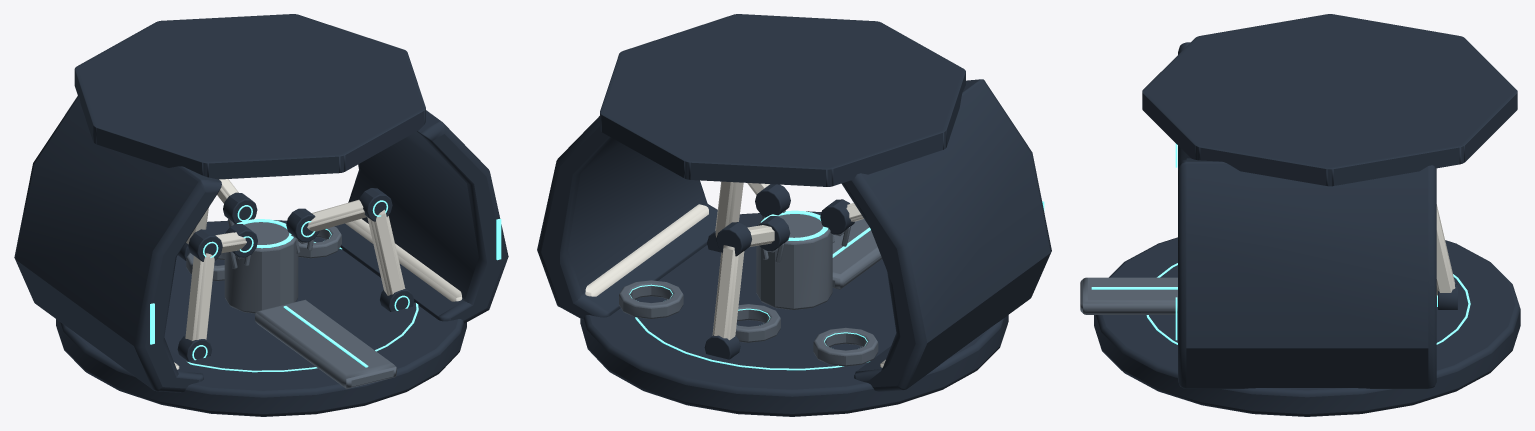
File: cordis_workshop.glb
3 views of the same model, side by side, from view 1: azimuth 30°, elevation 25°; view 2: azimuth 150°, elevation 25°; view 3: azimuth 270°, elevation 25° (orthographic). The views are drawn at different scales.
Parts seen in each view (by area): view 1: cordis_workshop__canopy, cordis_workshop__shell_left, cordis_workshop__floor, cordis_workshop__shell_right, cordis_workshop__rail, cordis_workshop__manufacturing_core, cordis_workshop__arm_02_base, cordis_workshop__arm_01_base, cordis_workshop__shell_ivory__02, cordis_workshop__arm_01_joint, cordis_workshop__dock_03_frame, cordis_workshop__arm_02_bearing__02 (+7 smaller); view 2: cordis_workshop__canopy, cordis_workshop__shell_left, cordis_workshop__floor, cordis_workshop__shell_right, cordis_workshop__manufacturing_core, cordis_workshop__shell_ivory__02, cordis_workshop__rail, cordis_workshop__arm_03_base, cordis_workshop__dock_01_frame, cordis_workshop__dock_03_frame, cordis_workshop__dock_02_frame, cordis_workshop__arm_01_base (+6 smaller); view 3: cordis_workshop__shell_right, cordis_workshop__canopy, cordis_workshop__floor, cordis_workshop__rail, cordis_workshop__arm_03_base, cordis_workshop__deck_inlay.
Boxes of the visible parts, bbox=[...] form: cordis_workshop__canopy: bbox=[74, 14, 425, 179]; cordis_workshop__shell_left: bbox=[14, 94, 221, 392]; cordis_workshop__floor: bbox=[56, 220, 466, 416]; cordis_workshop__shell_right: bbox=[334, 110, 508, 323]; cordis_workshop__rail: bbox=[255, 299, 396, 388]; cordis_workshop__manufacturing_core: bbox=[224, 222, 298, 313]; cordis_workshop__arm_02_base: bbox=[185, 253, 214, 340]; cordis_workshop__arm_01_base: bbox=[367, 209, 405, 295]; cordis_workshop__shell_ivory__02: bbox=[345, 218, 462, 301]; cordis_workshop__arm_01_joint: bbox=[307, 199, 366, 231]; cordis_workshop__dock_03_frame: bbox=[298, 226, 341, 258]; cordis_workshop__arm_02_bearing__02: bbox=[188, 229, 222, 261]; cordis_workshop__canopy: bbox=[600, 14, 965, 186]; cordis_workshop__shell_left: bbox=[841, 79, 1051, 391]; cordis_workshop__floor: bbox=[580, 211, 1008, 416]; cordis_workshop__shell_right: bbox=[537, 116, 717, 319]; cordis_workshop__manufacturing_core: bbox=[756, 214, 832, 309]; cordis_workshop__shell_ivory__02: bbox=[585, 204, 708, 296]; cordis_workshop__rail: bbox=[832, 219, 882, 289]; cordis_workshop__arm_03_base: bbox=[712, 245, 744, 340]; cordis_workshop__dock_01_frame: bbox=[813, 327, 878, 366]; cordis_workshop__dock_03_frame: bbox=[619, 280, 683, 318]; cordis_workshop__dock_02_frame: bbox=[735, 304, 780, 342]; cordis_workshop__arm_01_base: bbox=[715, 181, 743, 237]; cordis_workshop__shell_right: bbox=[1178, 158, 1436, 388]; cordis_workshop__canopy: bbox=[1142, 14, 1517, 186]; cordis_workshop__floor: bbox=[1094, 237, 1520, 416]; cordis_workshop__rail: bbox=[1080, 277, 1177, 314]; cordis_workshop__arm_03_base: bbox=[1436, 204, 1455, 295]; cordis_workshop__deck_inlay: bbox=[1146, 263, 1470, 344].
Bounding box in the file's own units: 5 × 3 × 5.
